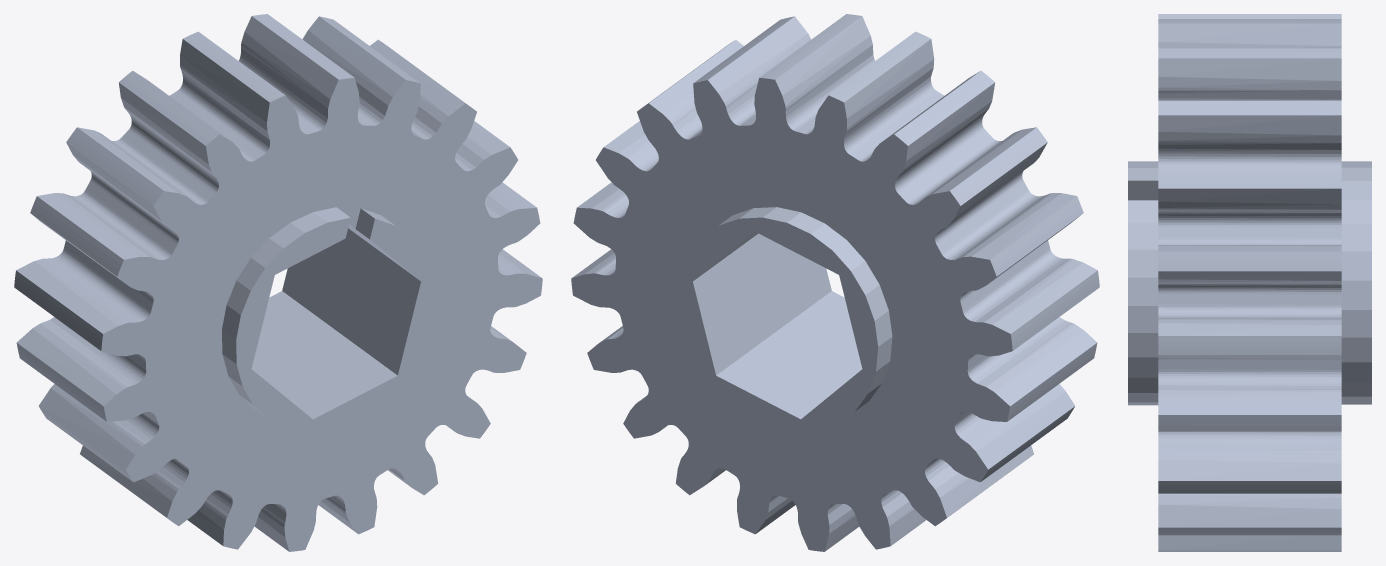
The model's file is WCP-0683 Rev1.glb.
3 renders of one model, left to right at view 1: azimuth 30°, elevation 25°; view 2: azimuth 150°, elevation 25°; view 3: azimuth 270°, elevation 25°, orthographic. The views are drawn at different scales.
Size of the model in its own units: 27.86 by 27.86 by 12.65.
